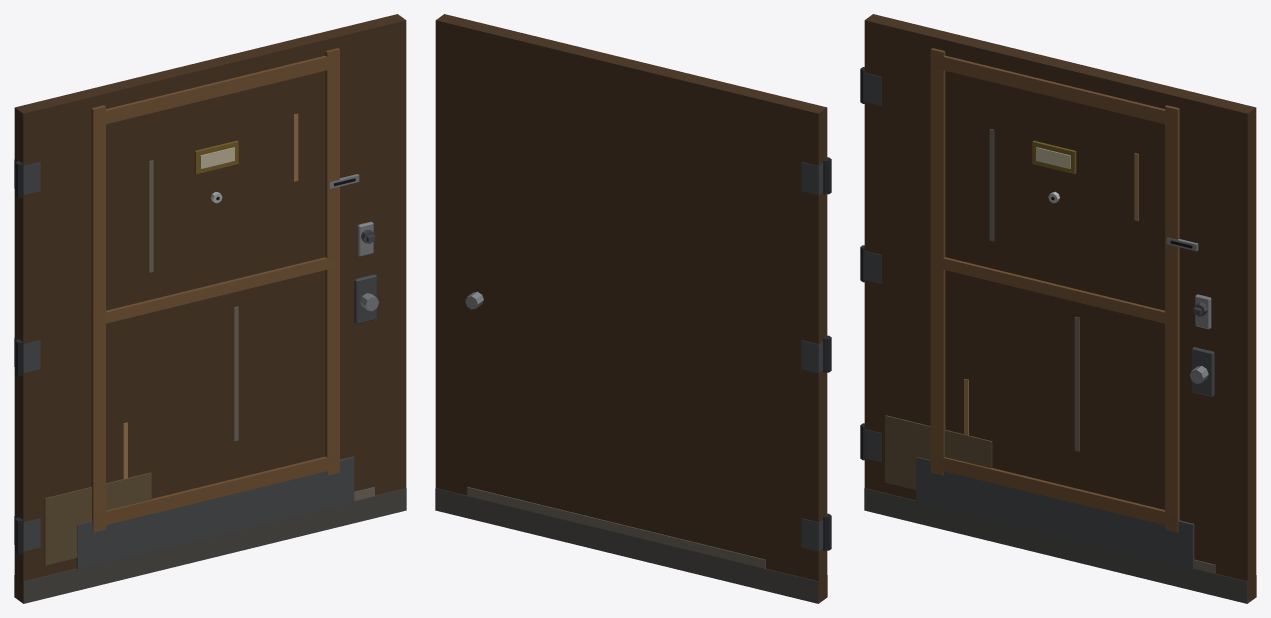
File: bld_door_flat.fbx
The picture shows the model from 3 angles, left to right: view 1: azimuth 30°, elevation 25°; view 2: azimuth 150°, elevation 25°; view 3: azimuth 330°, elevation 25°; orthographic projection.
Visible parts, largest first — view 1: bld_door_flat; view 2: bld_door_flat; view 3: bld_door_flat.
Part boxes in pixels (bbox=[...]): bld_door_flat: bbox=[14, 14, 406, 603]; bld_door_flat: bbox=[435, 14, 831, 603]; bld_door_flat: bbox=[860, 14, 1256, 603].
Size of the model in its own units: 1.82 by 2.2 by 0.195.
